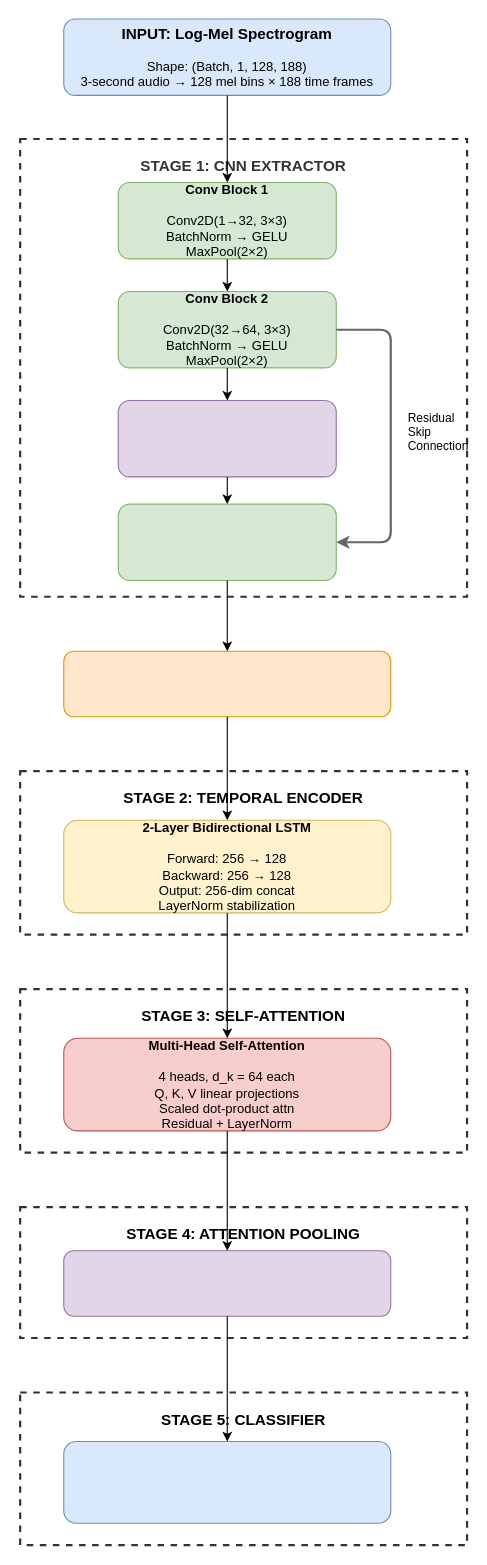
Image size: 487x1565. Some labels were removed from this diagram. The centre of each missing label's shape, as x and y in pixels:
"Classifier Head FC(256→128) → GELU Dropout(0.3) FC(128→8) → 8-class output" goes at (227,1481).
"Conv Block 3 Conv2D(64→128, 3×3) BatchNorm → GELU MaxPool(2×2)" goes at (226,541).
"Learned temporal weights Linear(256→1) → softmax Weighted sum → (B, 256)" goes at (227,1283).
"RESHAPE & LINEAR PROJECT (B, 128, 16, 23) → (B, 23, 256)" goes at (227,683).
"Squeeze-and-Excitation GAP → FC(64→16) ReLU → FC(16→64) Sigmoid × input" goes at (226,438).
